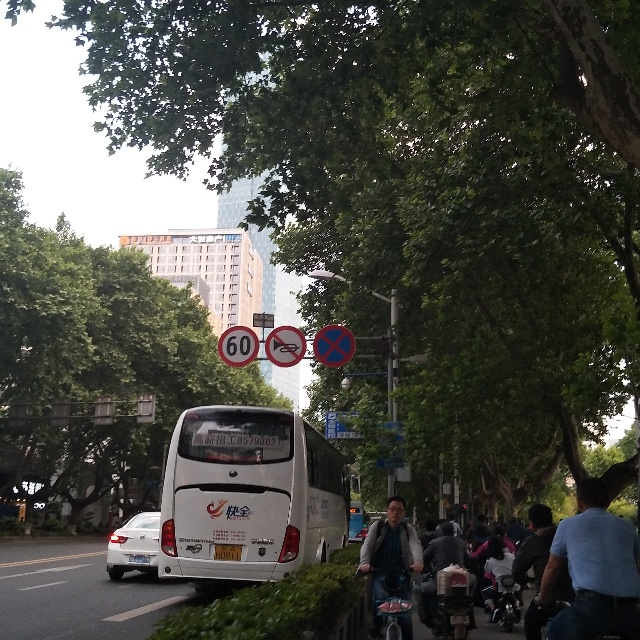nohonk: (265, 326, 306, 366)
stop: (312, 328, 355, 365)
